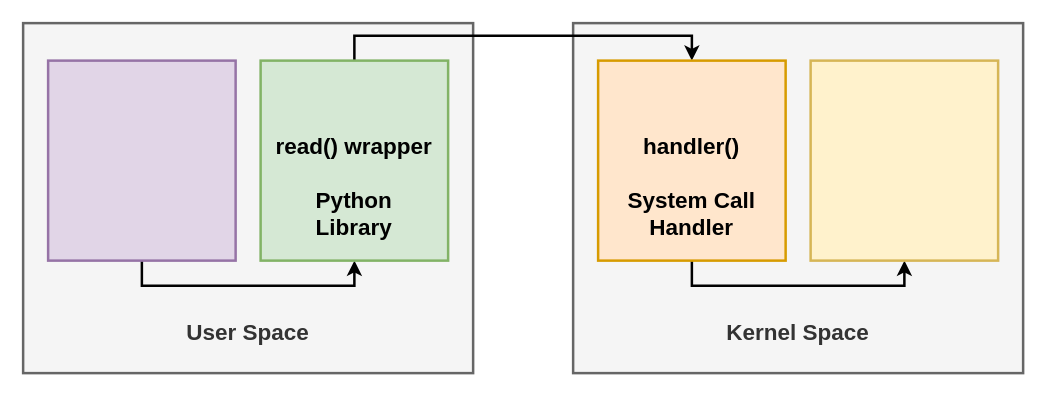
This 1045x395 diagram has some shape labels left out. Here are the shapes that lost their labels. From the top down, the centre of each, then its label:
At point 141,160: "call read() Application".
At point 904,160: "sys_read()".
